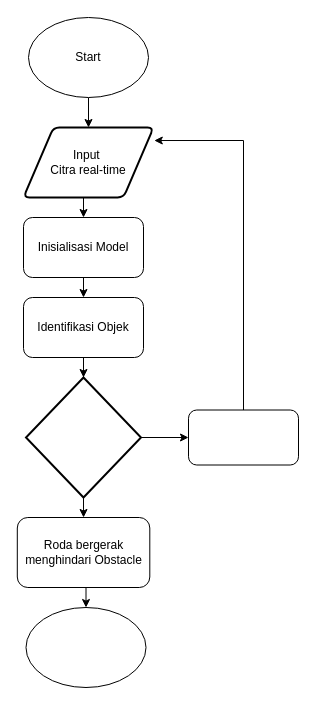
Some shapes in this 317 by 705 pixel diagram are drawn without their labels. The shapes that lost their labels are listed below. From the top down, each one's centre as x and y in pixels, then its label:
the point at 83,437: Objek terdeteksi dekat
the point at 243,437: Roda berjalan
the point at 85,647: Selesai
